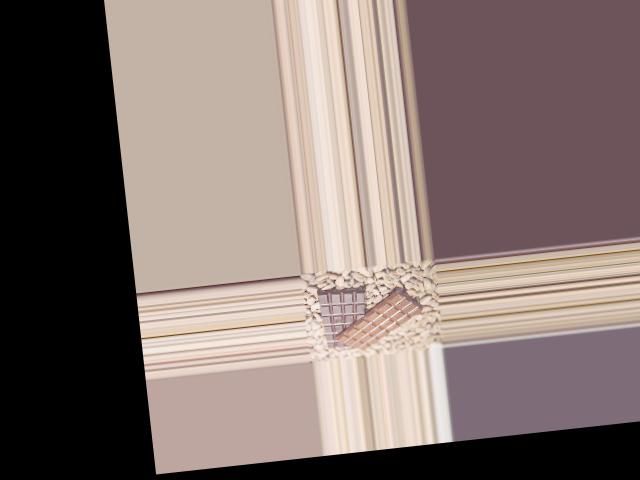chocolate: (310, 282, 371, 353)
